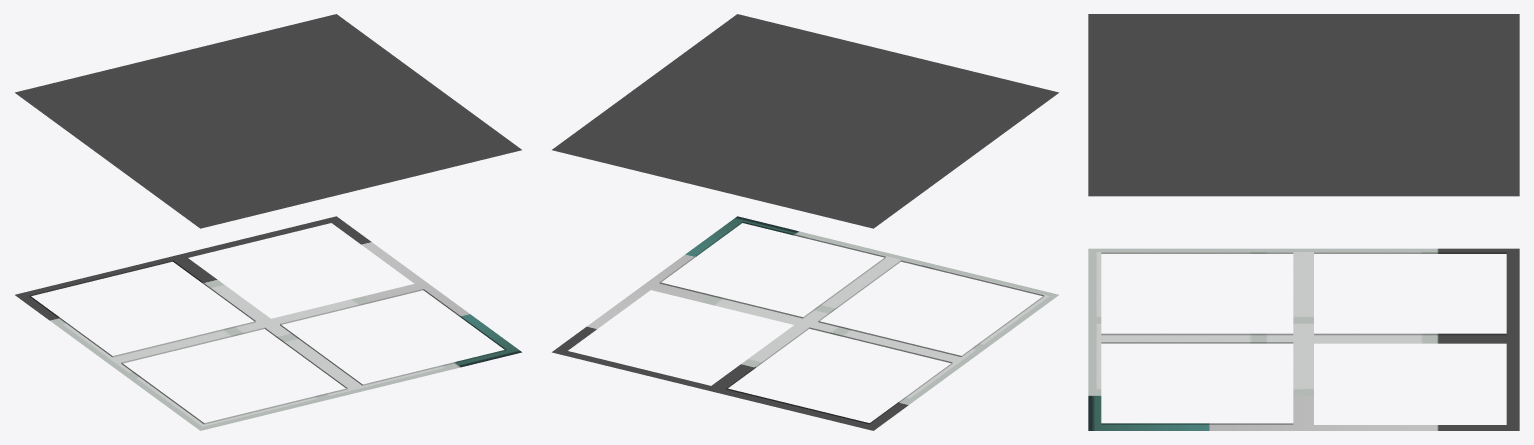
Rendered from Ceiling_Broken_A_2_2.fbx.
3 views of the same model, side by side, from view 1: azimuth 30°, elevation 25°; view 2: azimuth 150°, elevation 25°; view 3: azimuth 270°, elevation 25° (orthographic). The views are drawn at different scales.
Visible parts, largest first — view 1: Ceiling_Broken_A_2_2; view 2: Ceiling_Broken_A_2_2; view 3: Ceiling_Broken_A_2_2.
Boxes of the visible parts, x1,y1,x2,y2 form: Ceiling_Broken_A_2_2: (15,14,521,430); Ceiling_Broken_A_2_2: (552,14,1058,430); Ceiling_Broken_A_2_2: (1088,14,1519,430).
Bounding box in the file's own units: 200 × 120 × 200.
